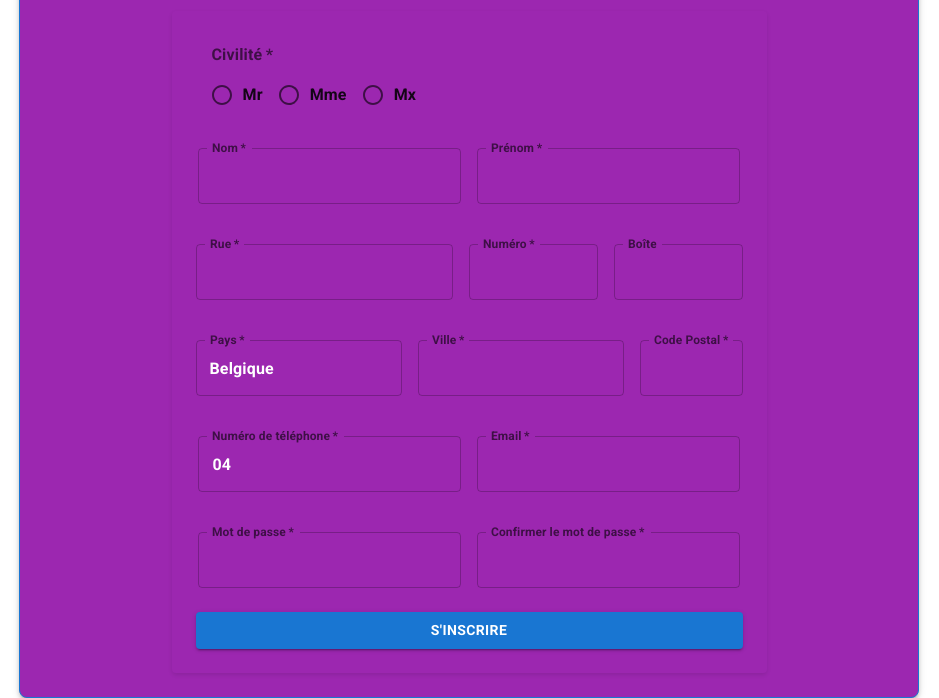
it: RegisterPage › shows error if email is invalid
This screenshot has width=939, height=698.
Type "invalid-email" into the field labelled "Email *" at (608, 464), box [477,436,740,492]
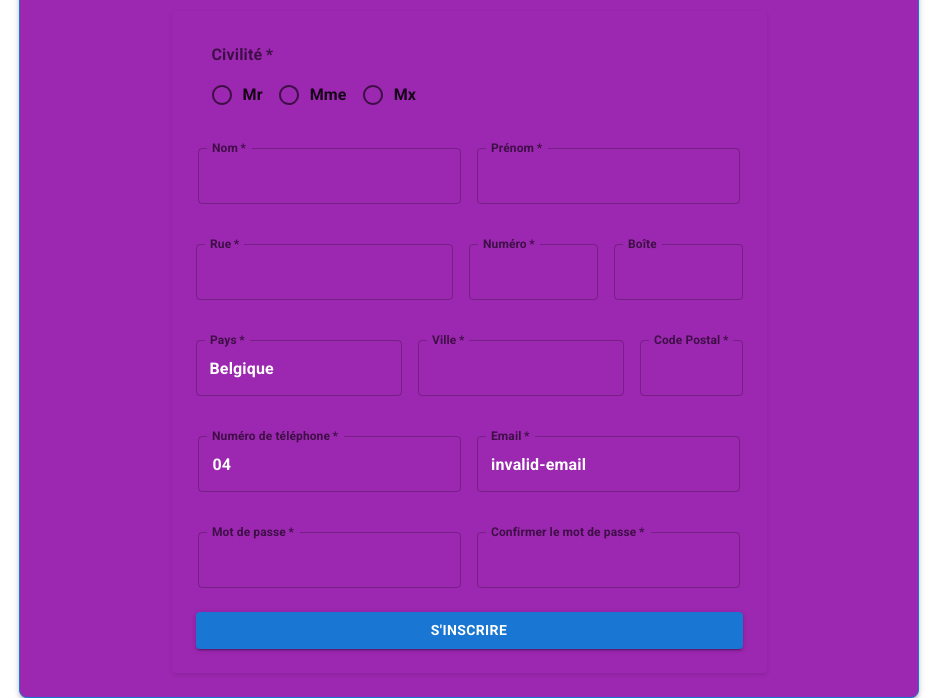
Type "Password@123" into the password field labelled "Mot de passe *" at (330, 560), box [198,532,461,588]
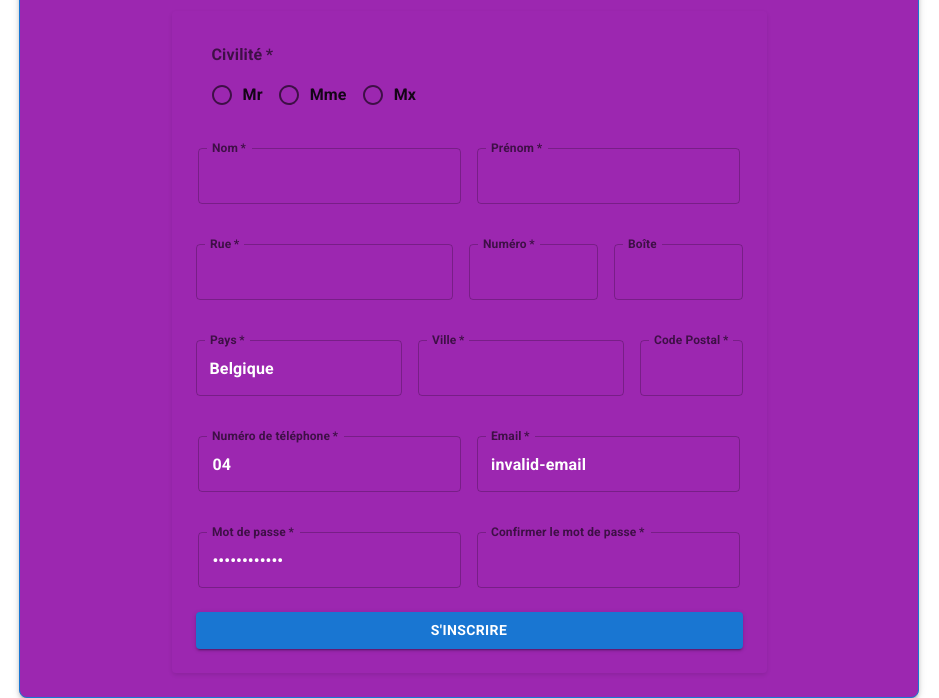
Type "Password@123" into the password field labelled "Confirmer le mot de passe *" at (608, 560), box [477,532,740,588]
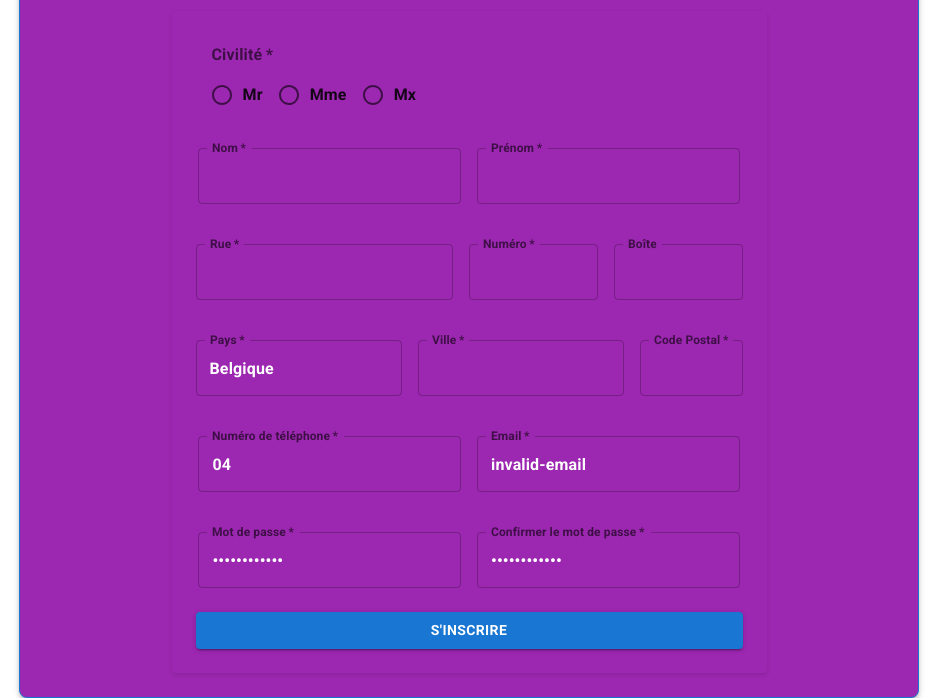
Submit the form from the button "S'inscrire", box [196,612,742,649]
(page scrolled)
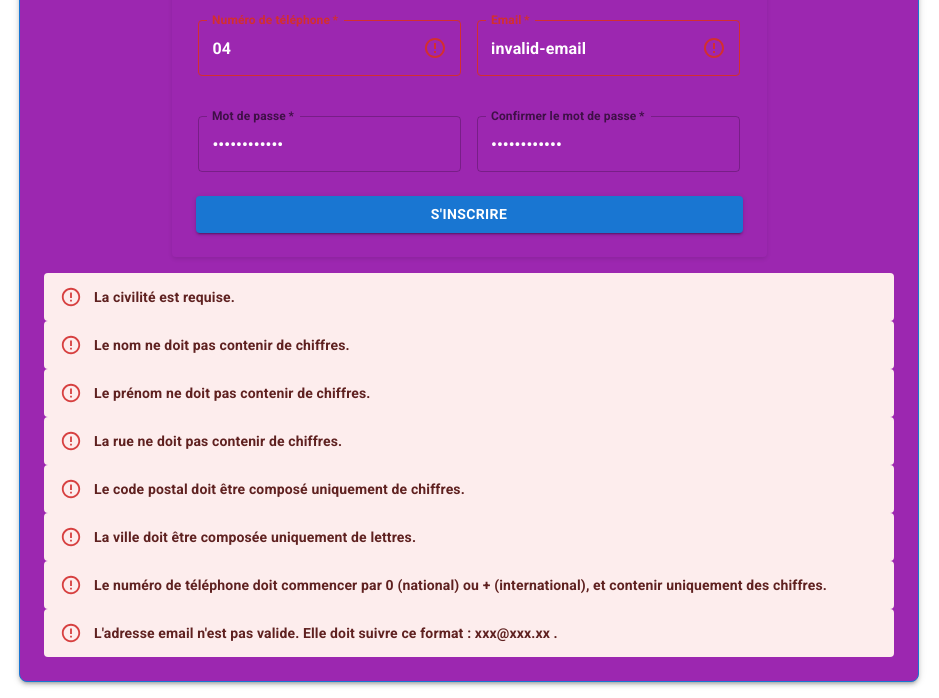
Result: the text "adresse email n'est pas valide" is shown at [94,625,558,641]
